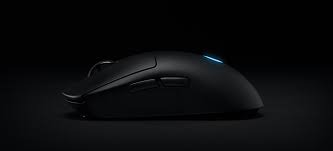mouse: (53, 49, 272, 125)
